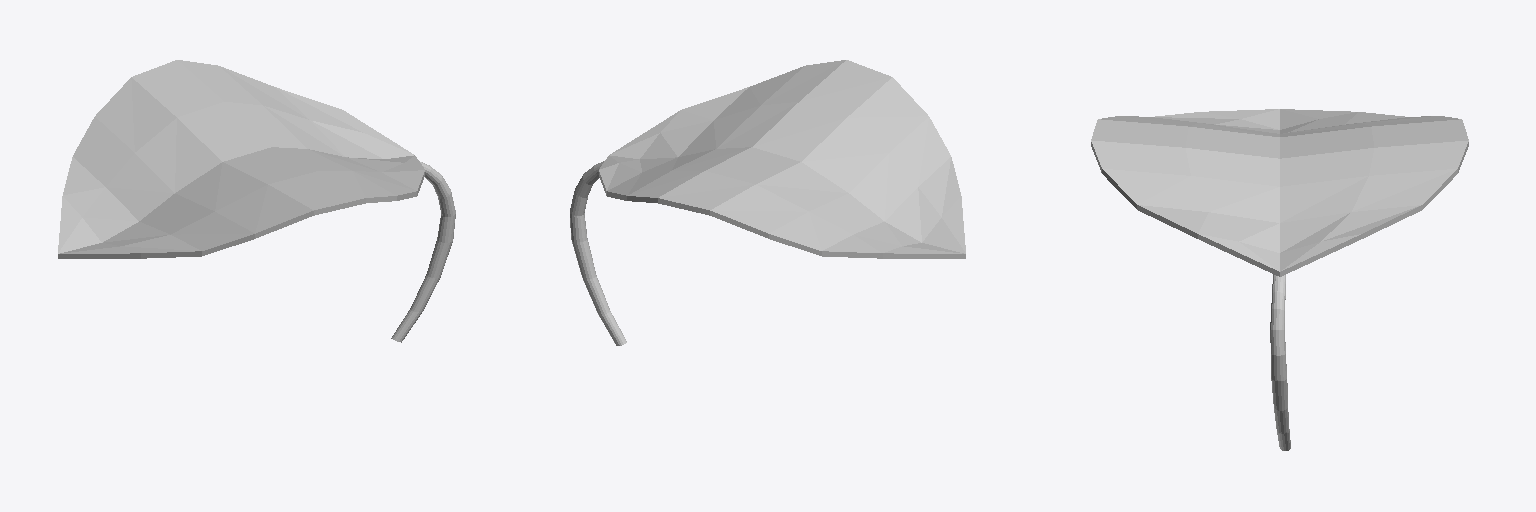
Rendered from Option17_P.obj.
3 renders of one model, left to right at view 1: azimuth 30°, elevation 25°; view 2: azimuth 150°, elevation 25°; view 3: azimuth 270°, elevation 25°, orthographic.
Parts seen in each view (by area): view 1: leaf; view 2: leaf; view 3: leaf.
Part boxes in pixels (bbox=[...]): leaf: bbox=[58, 60, 455, 342]; leaf: bbox=[570, 60, 965, 345]; leaf: bbox=[1091, 109, 1468, 450].
Bounding box in the file's own units: 4.03 × 2.4 × 3.33.